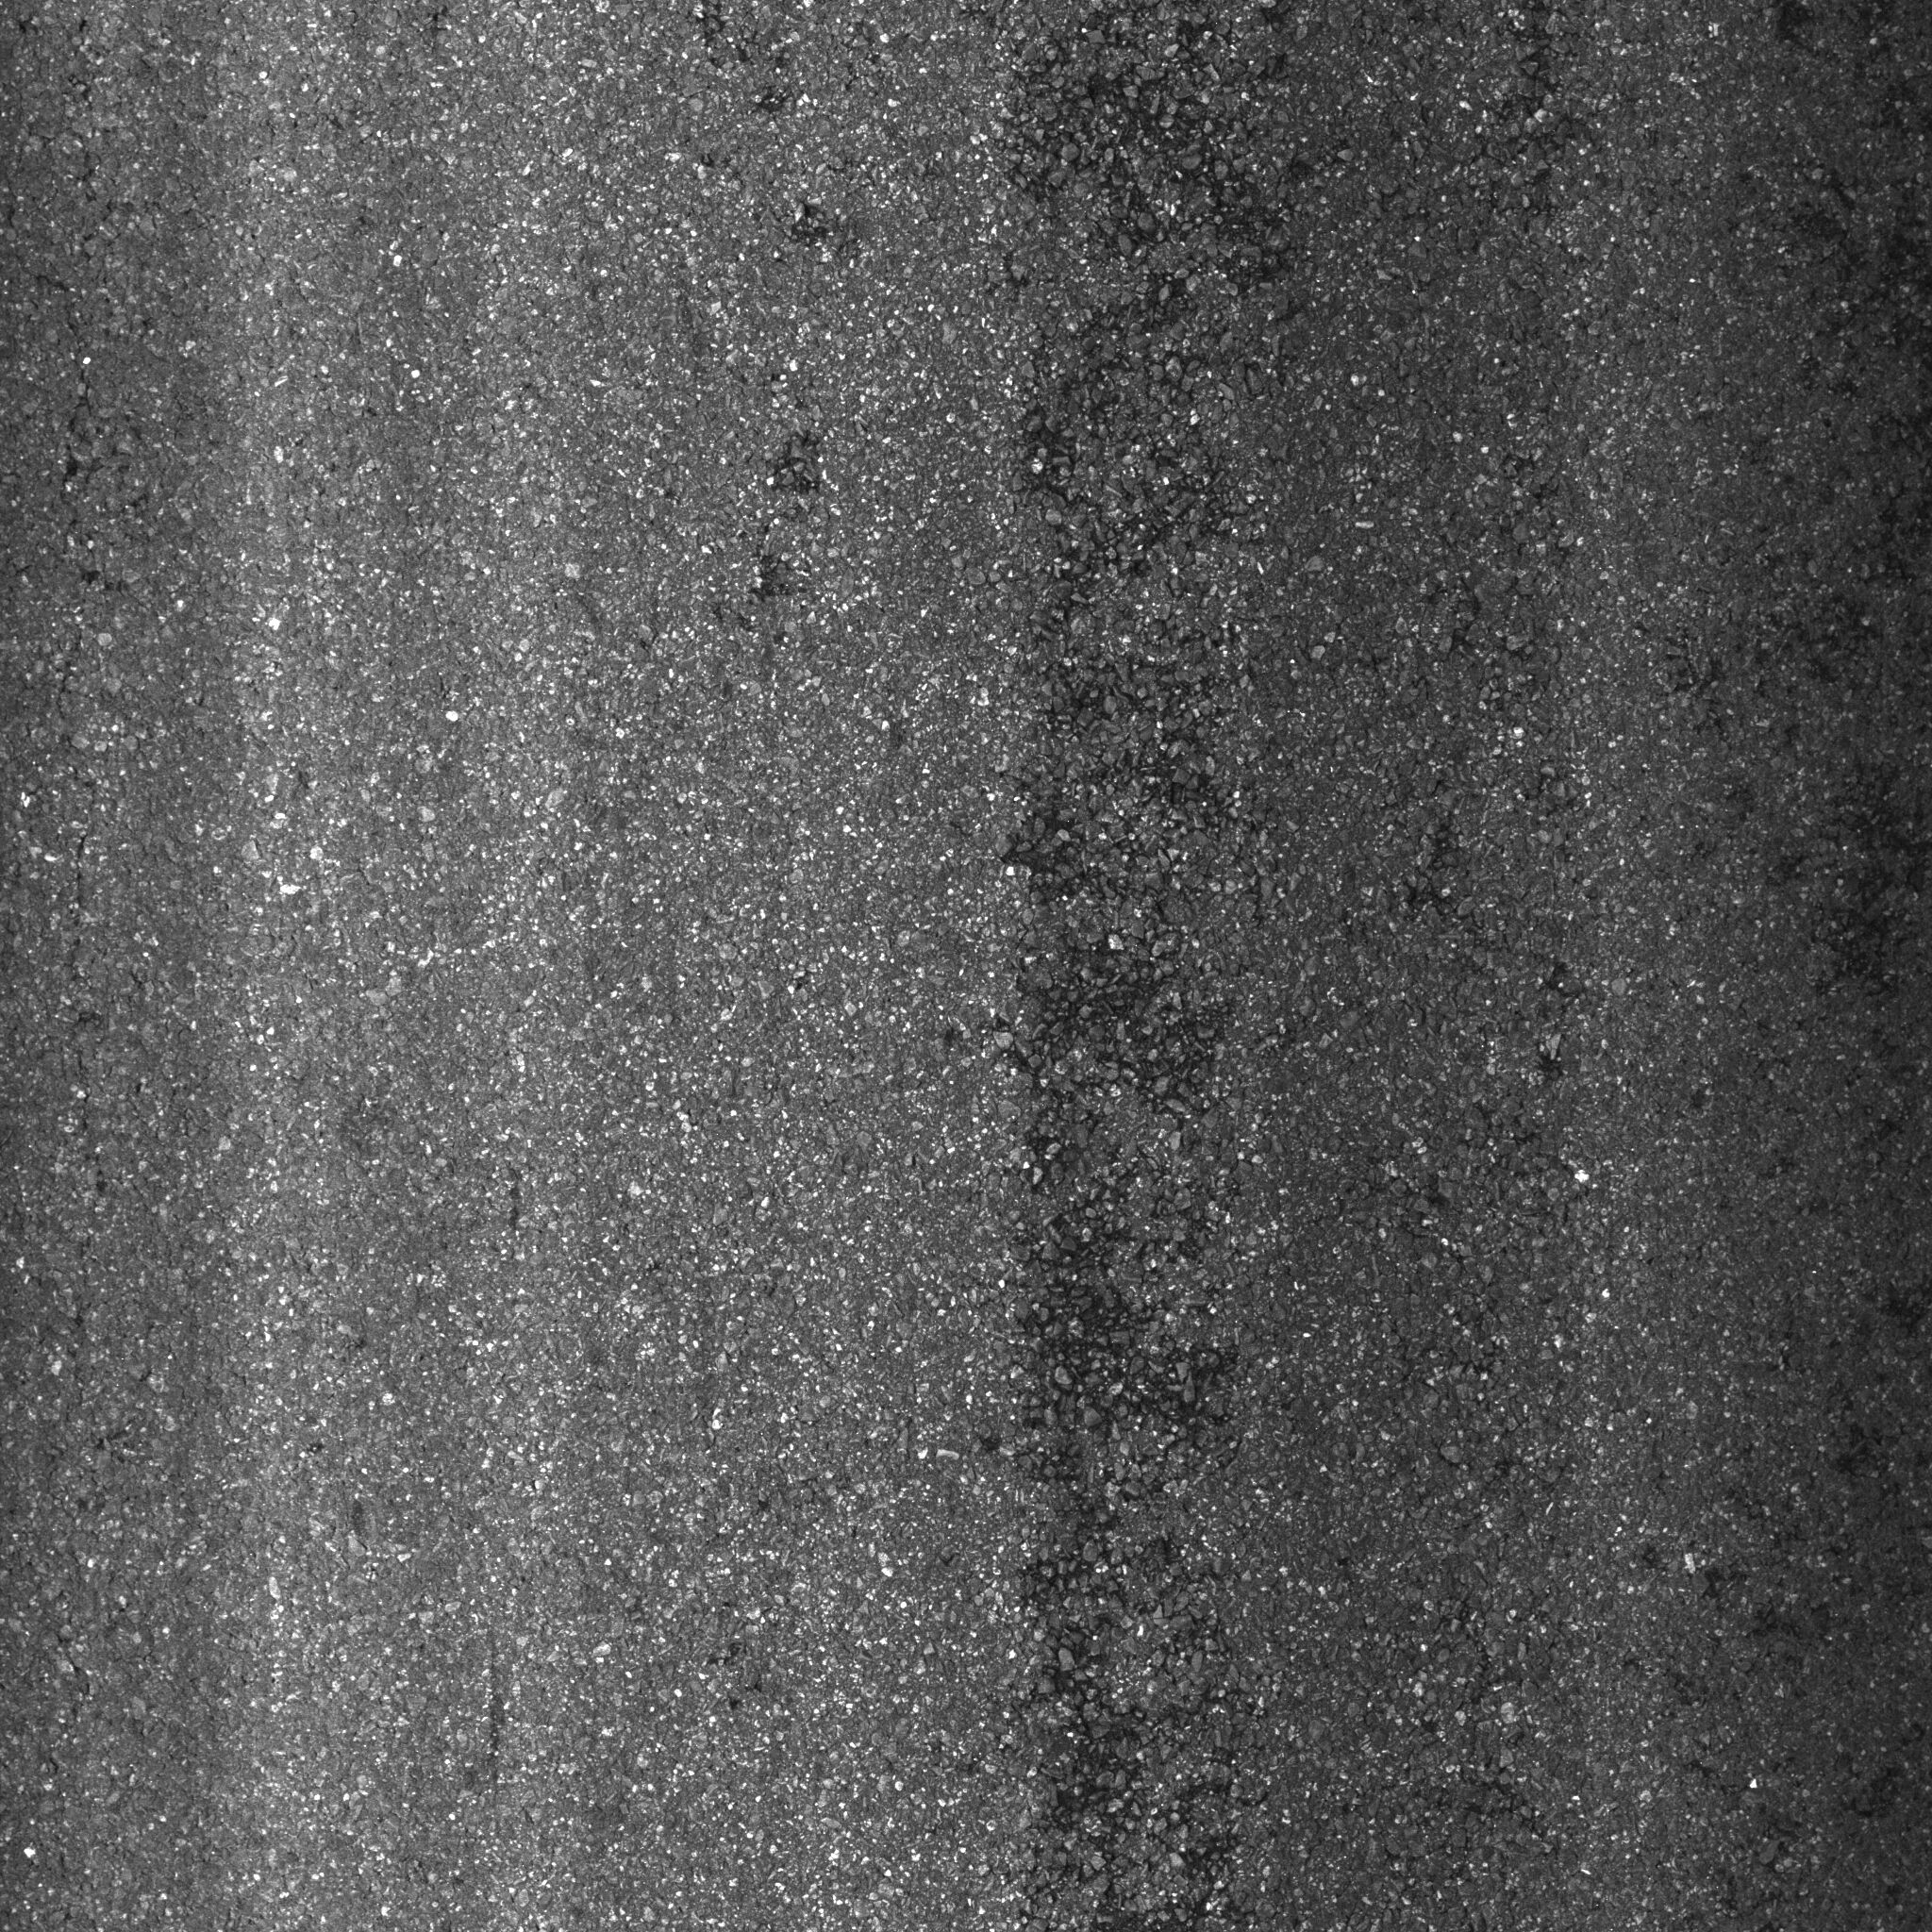longitudinal: (7, 188, 202, 1865)
